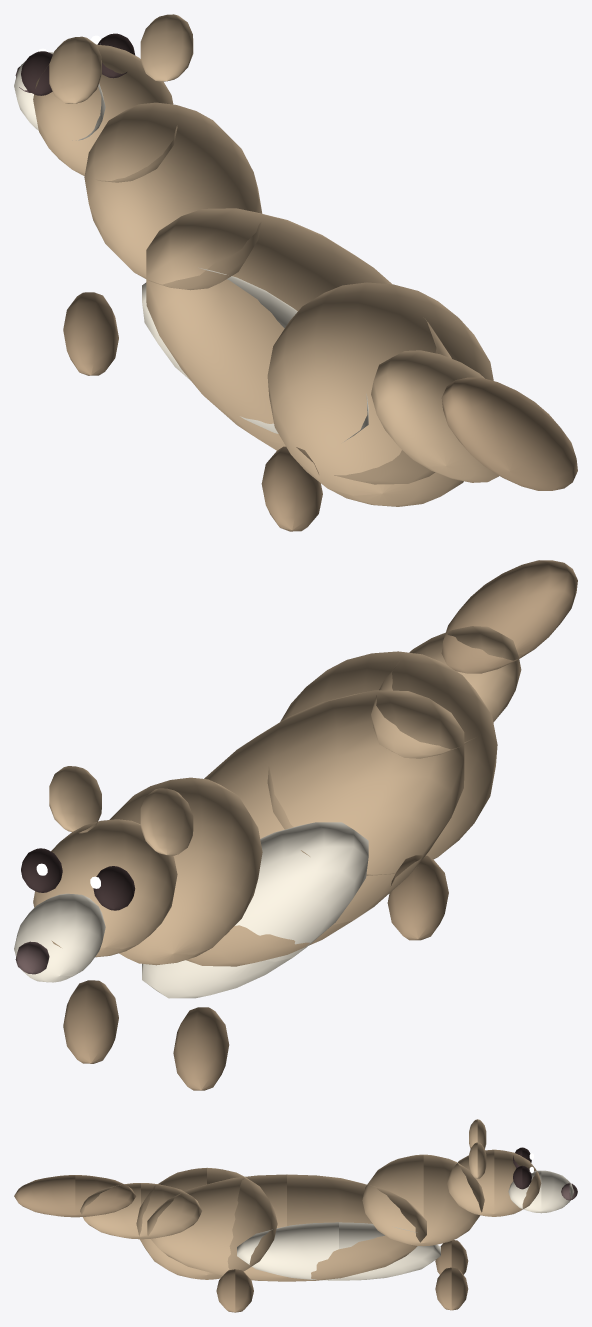
File: enemy_weasel.glb
3 renders of one model, top to bottom at view 1: azimuth 30°, elevation 25°; view 2: azimuth 150°, elevation 25°; view 3: azimuth 270°, elevation 25°, orthographic. The views are drawn at different scales.
Parts seen in each view (by area): view 1: chinchilla; view 2: chinchilla; view 3: chinchilla.
Boxes of the visible parts, left/top/right/bottom form: chinchilla: left=14, top=14, right=577, bottom=531; chinchilla: left=14, top=560, right=577, bottom=1090; chinchilla: left=14, top=1119, right=577, bottom=1312.
Bounding box in the file's own units: 0.24 × 0.385 × 1.2.
